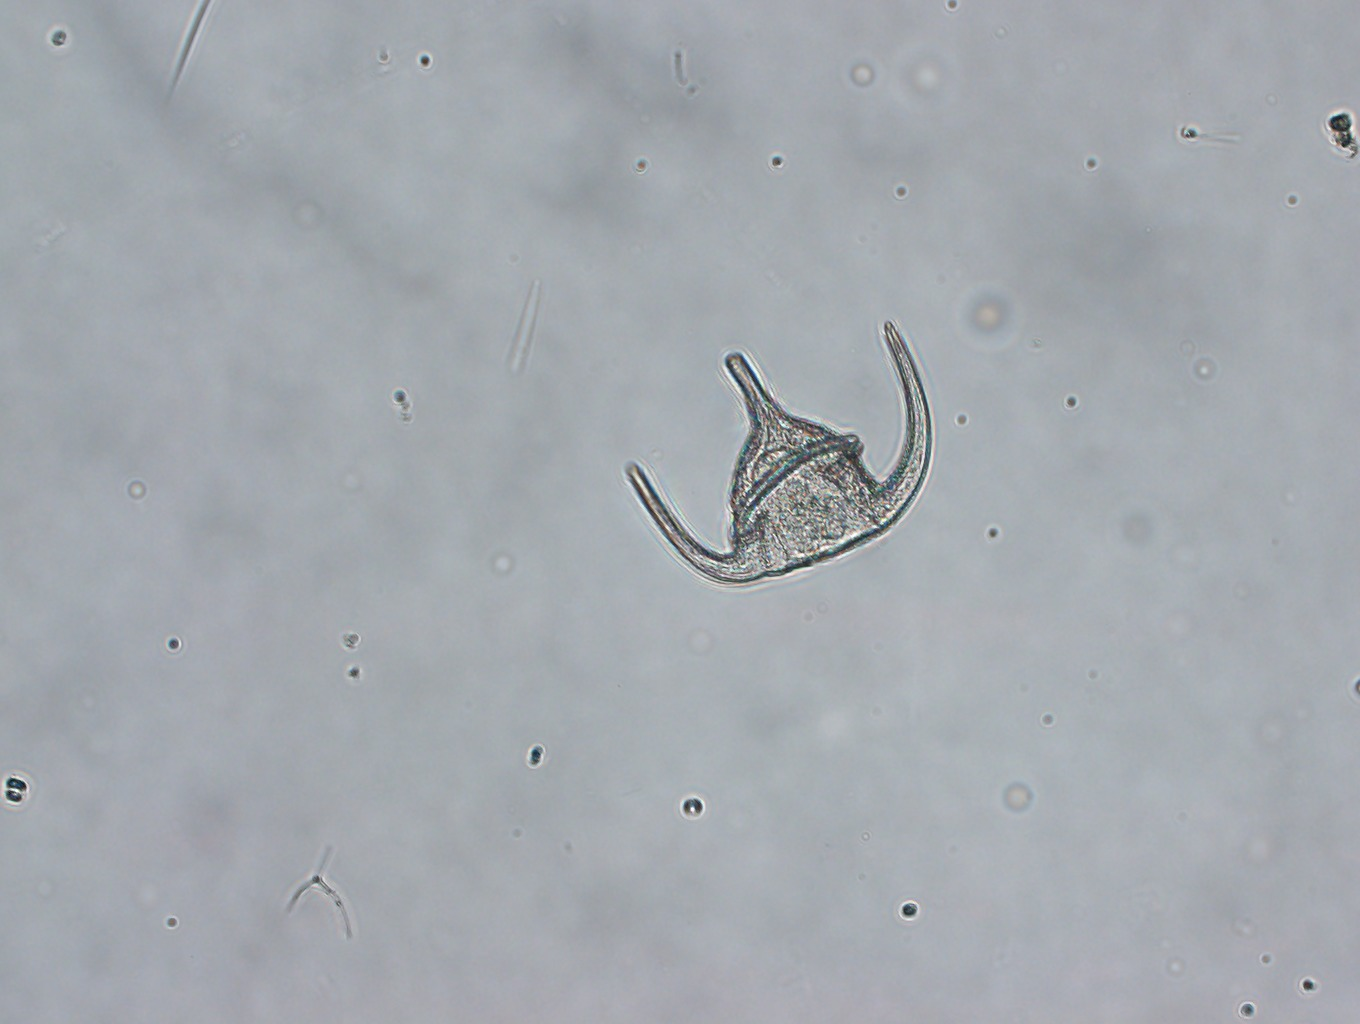ceratium tripos: (614, 314, 941, 594)
